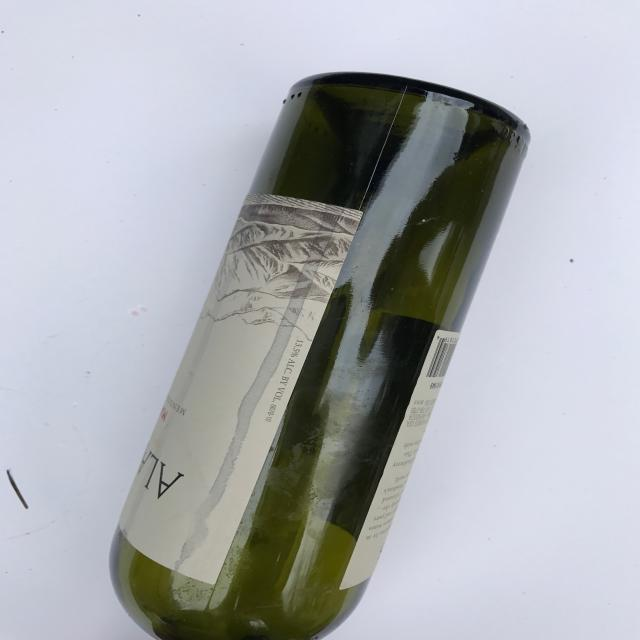glass: (107, 70, 531, 640)
